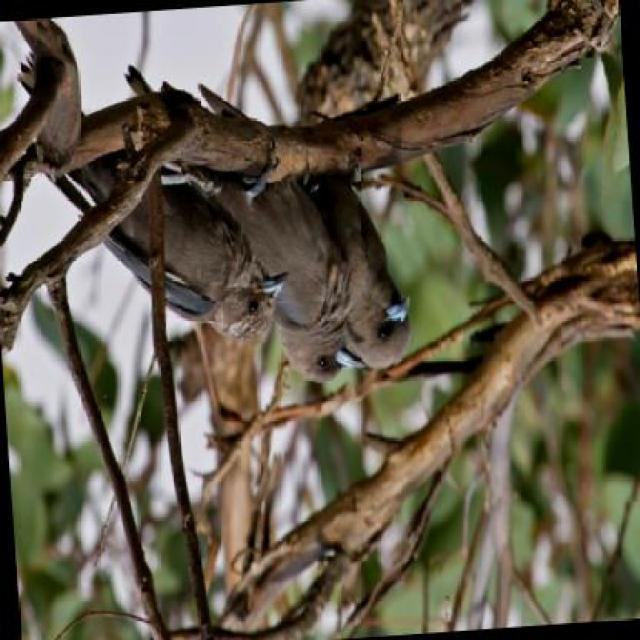Bird: (62, 149, 274, 338), (267, 167, 345, 385), (357, 154, 428, 381)
